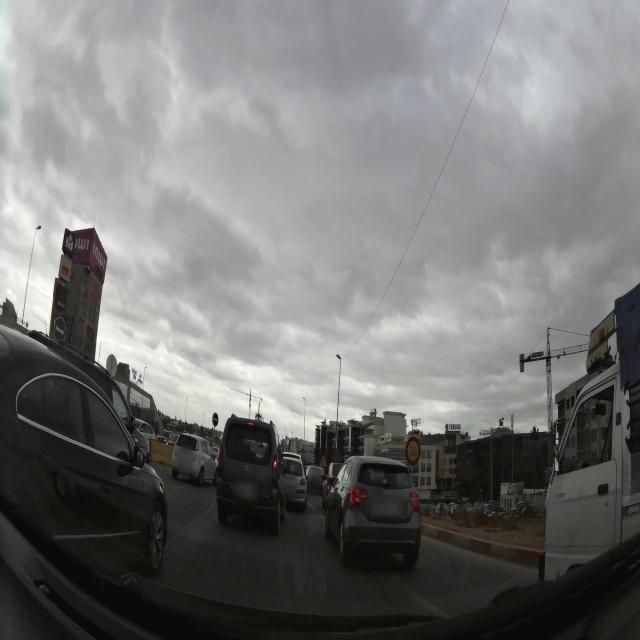car: (0, 318, 168, 591), (323, 453, 422, 569), (216, 414, 285, 533), (171, 433, 218, 486), (280, 451, 308, 511), (321, 459, 345, 508), (305, 464, 325, 493)
